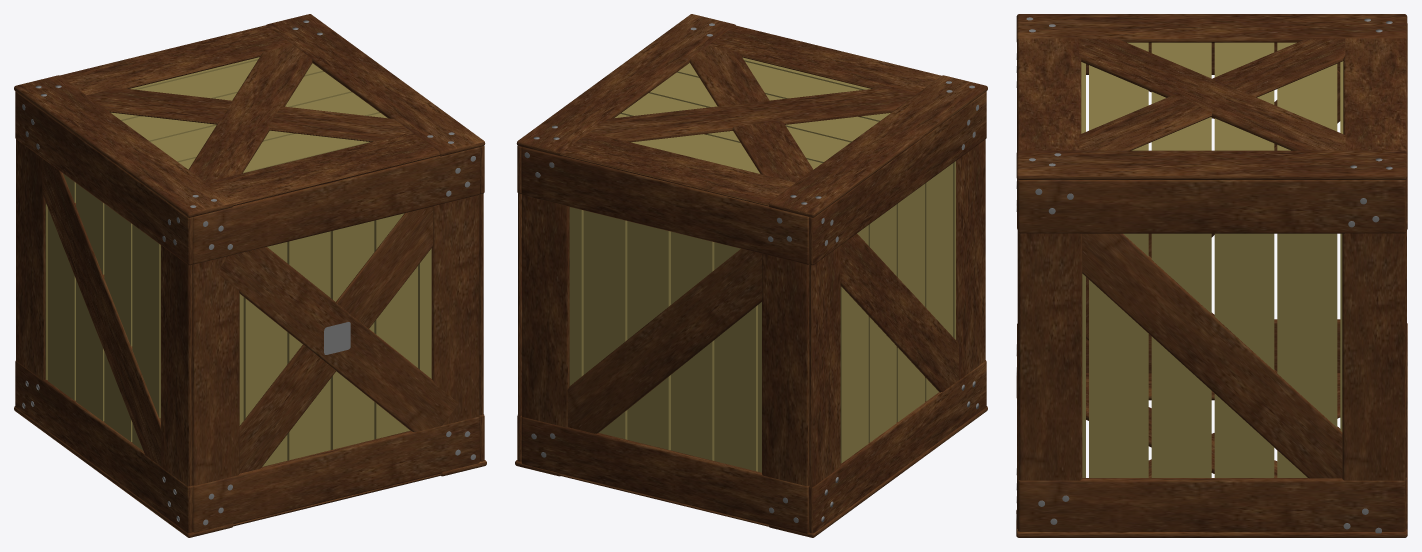
File: woodenCrate01.glb
3 views of the same model, side by side, from view 1: azimuth 30°, elevation 25°; view 2: azimuth 150°, elevation 25°; view 3: azimuth 270°, elevation 25° (orthographic). The views are drawn at different scales.
Visible parts, largest first — view 1: Cube.002_2, Cube.001_1, Cube.023_23, Cube.011_11, Cube.010_10, Cube.034_34, Cube.033_33, Cube.013_13, Cube.004_4, Cube.012_12, Cube.019_19, Cube.018_18 (+11 smaller); view 2: Cube.003_3, Cube.001_1, Cube.023_23, Cube.007_7, Cube.006_6, Cube.036_42, Cube.009_9, Cube.008_8, Cube.004_4, Cube.019_19, Cube.018_18, Cube.035_41 (+9 smaller); view 3: Cube_0, Cube.023_23, Cube.014_14, Cube.015_15, Cube.030_30, Cube.017_17, Cube.016_16, Cube.004_4, Cube.032_32, Cube.031_31, Cube.024_24, Cube.025_25 (+6 smaller).
Boxes of the visible parts, left/top/right/bottom form: Cube.002_2: left=239, top=213, right=431, bottom=466; Cube.001_1: left=45, top=173, right=160, bottom=450; Cube.023_23: left=14, top=14, right=485, bottom=217; Cube.011_11: left=192, top=416, right=479, bottom=532; Cube.010_10: left=192, top=147, right=479, bottom=264; Cube.034_34: left=216, top=247, right=458, bottom=432; Cube.033_33: left=239, top=206, right=432, bottom=473; Cube.013_13: left=192, top=256, right=239, bottom=485; Cube.004_4: left=111, top=57, right=387, bottom=173; Cube.012_12: left=431, top=194, right=479, bottom=425; Cube.019_19: left=15, top=361, right=192, bottom=532; Cube.018_18: left=15, top=91, right=192, bottom=265; Cube.003_3: left=569, top=207, right=761, bottom=472; Cube.001_1: left=840, top=161, right=955, bottom=463; Cube.023_23: left=516, top=14, right=987, bottom=217; Cube.007_7: left=521, top=417, right=809, bottom=533; Cube.006_6: left=521, top=147, right=809, bottom=264; Cube.036_42: left=567, top=248, right=762, bottom=433; Cube.009_9: left=762, top=254, right=809, bottom=485; Cube.008_8: left=522, top=195, right=569, bottom=427; Cube.004_4: left=615, top=57, right=890, bottom=173; Cube.019_19: left=809, top=360, right=986, bottom=532; Cube.018_18: left=809, top=91, right=986, bottom=265; Cube.035_41: left=840, top=233, right=958, bottom=392; Cube_0: left=1082, top=233, right=1342, bottom=477; Cube.023_23: left=1016, top=14, right=1407, bottom=179; Cube.014_14: left=1017, top=180, right=1406, bottom=233; Cube.015_15: left=1018, top=478, right=1405, bottom=531; Cube.030_30: left=1082, top=233, right=1342, bottom=478; Cube.017_17: left=1018, top=233, right=1082, bottom=480; Cube.016_16: left=1342, top=233, right=1405, bottom=480; Cube.004_4: left=1081, top=42, right=1343, bottom=150; Cube.032_32: left=1079, top=38, right=1345, bottom=150; Cube.031_31: left=1079, top=38, right=1345, bottom=150; Cube.024_24: left=1343, top=38, right=1407, bottom=152; Cube.025_25: left=1017, top=38, right=1081, bottom=151.
Size of the model in its own units: 2.18 by 2.27 by 2.22.
4 materials, 1 textured.
